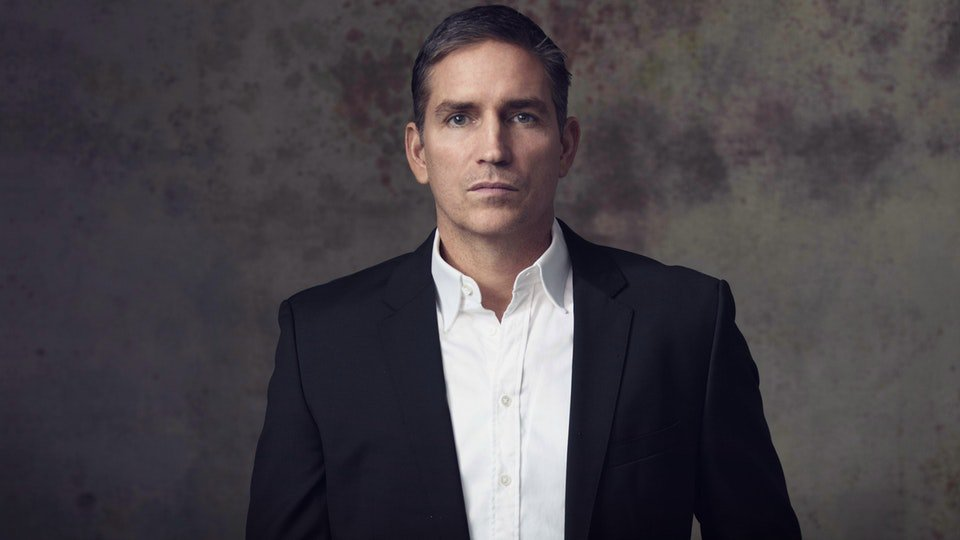noMask: (385, 8, 600, 250)
